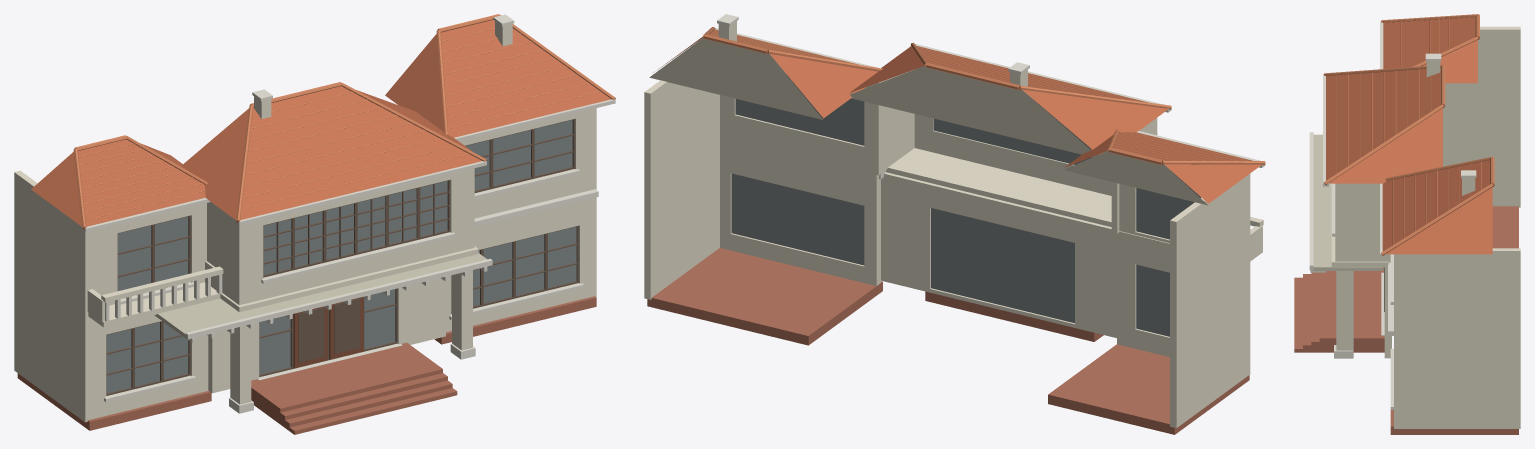
Rendered from xuhui-yueyang-road-110-residence-lod.glb.
The picture shows the model from 3 angles, left to right: view 1: azimuth 30°, elevation 25°; view 2: azimuth 150°, elevation 25°; view 3: azimuth 270°, elevation 25°; orthographic projection. The views are drawn at different scales.
Parts seen in each view (by area): view 1: 岳阳路110号住宅花园立面; view 2: 岳阳路110号住宅花园立面; view 3: 岳阳路110号住宅花园立面.
Part boxes in pixels (<box>): 岳阳路110号住宅花园立面: <box>14,14,615,434</box>; 岳阳路110号住宅花园立面: <box>644,14,1265,434</box>; 岳阳路110号住宅花园立面: <box>1294,14,1520,434</box>.
Size of the model in its own units: 18.91 by 9.25 by 7.74.
